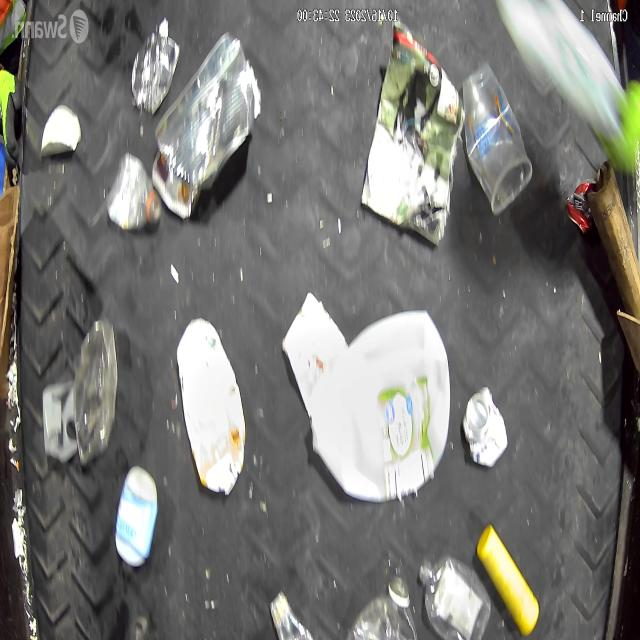can: (155, 29, 253, 191), (130, 35, 180, 115), (462, 384, 506, 470), (566, 179, 596, 234)
milk_jug: (310, 309, 448, 502), (179, 318, 245, 496)
plastic_bottle: (419, 550, 491, 640), (346, 574, 417, 640), (105, 152, 162, 232), (269, 591, 313, 640)
